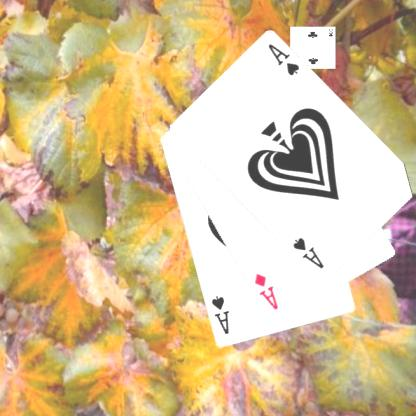AD: (253, 270, 282, 312)
AS: (266, 41, 303, 78), (291, 235, 328, 271), (210, 293, 232, 337)
